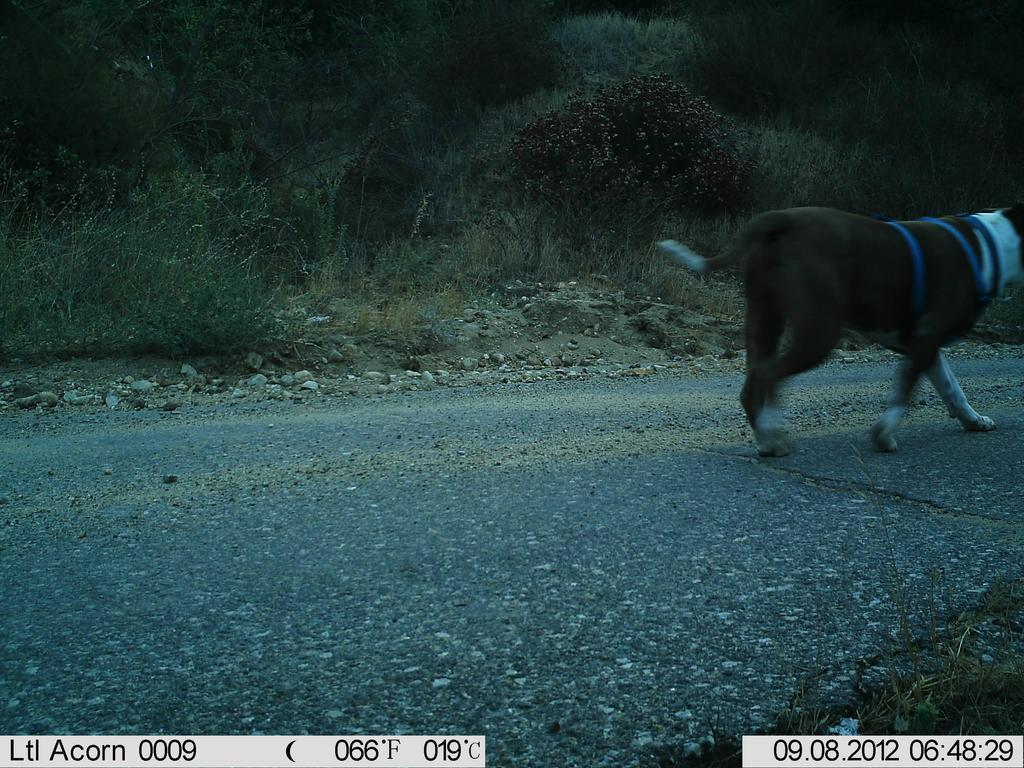dog: (644, 186, 1019, 473)
